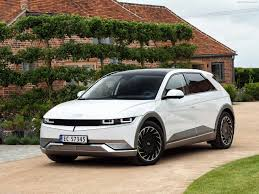Honda Ioniq: (38, 61, 233, 171)
